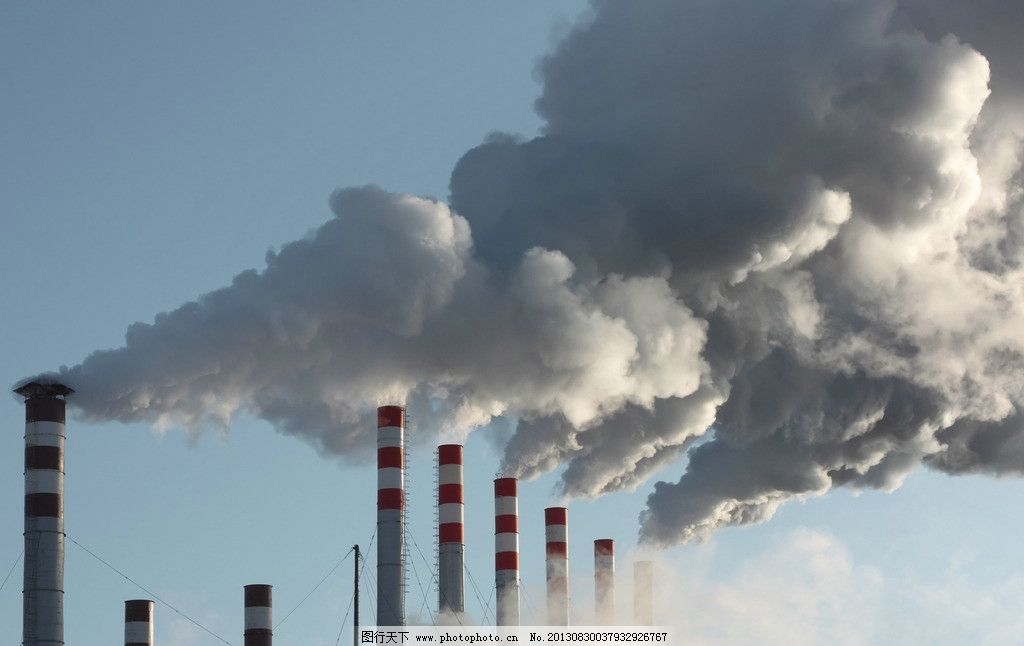dust: (383, 225, 860, 555), (25, 191, 356, 436)
